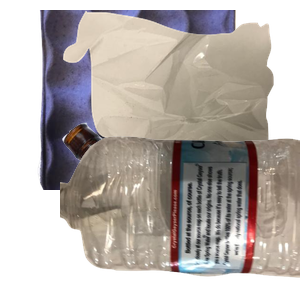glass: (60, 120, 300, 300)
paper: (35, 10, 268, 190)
plastic: (60, 134, 300, 300)
trash: (61, 10, 300, 190)
